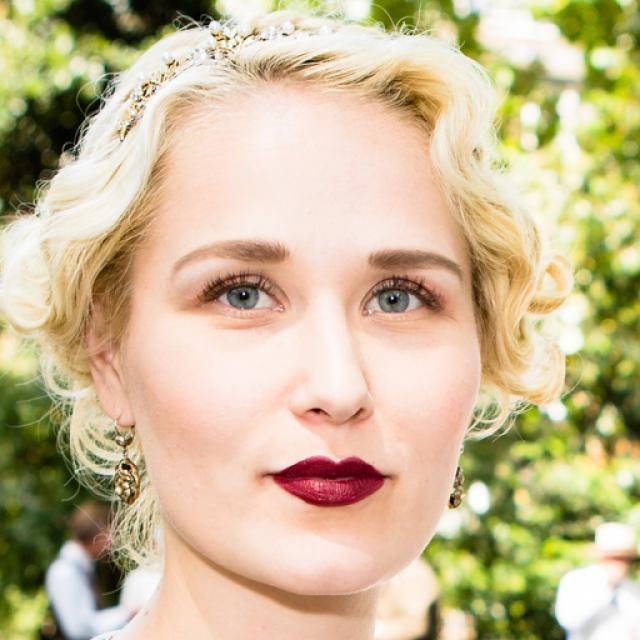neutral: (127, 95, 485, 591)
